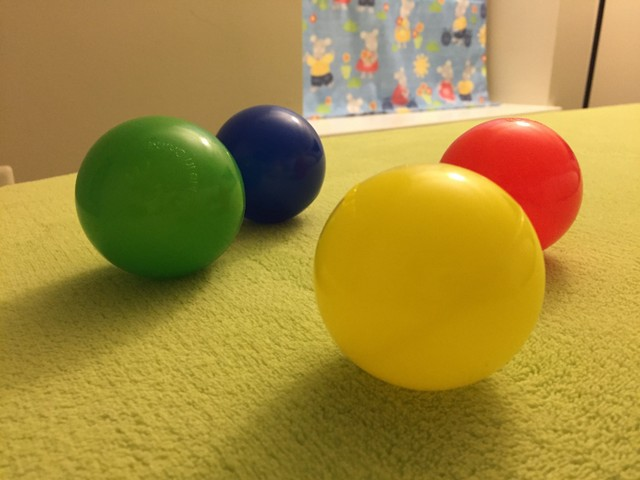Ball: (72, 113, 243, 277)
